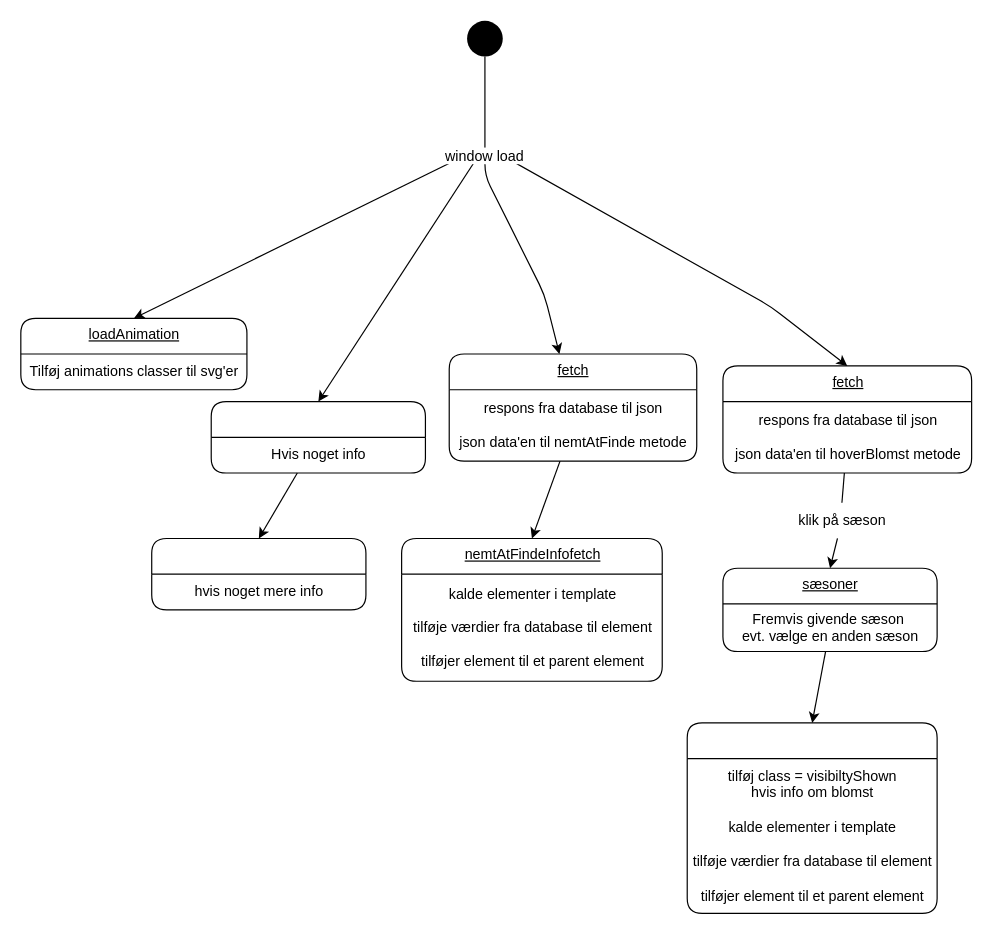
Some shapes in this 992 by 934 pixel diagram are drawn without their labels. The shapes that lost their labels are listed below. From the top down, each one's box as (x1, y1, x2, y2) in pixels, then its label:
(210, 400, 425, 473): hvadErSanke
(151, 537, 366, 610): scroll
(686, 722, 937, 913): hoverBlomst
